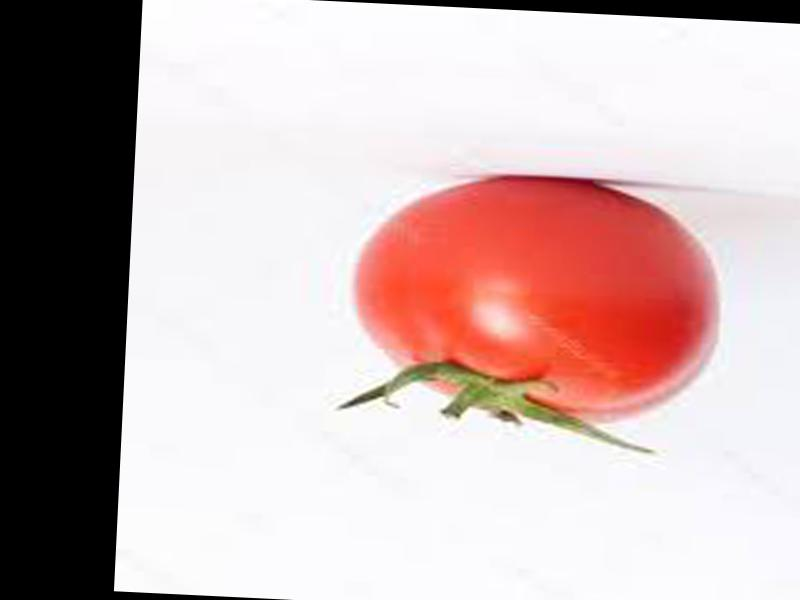Tomato: (349, 166, 730, 426)
